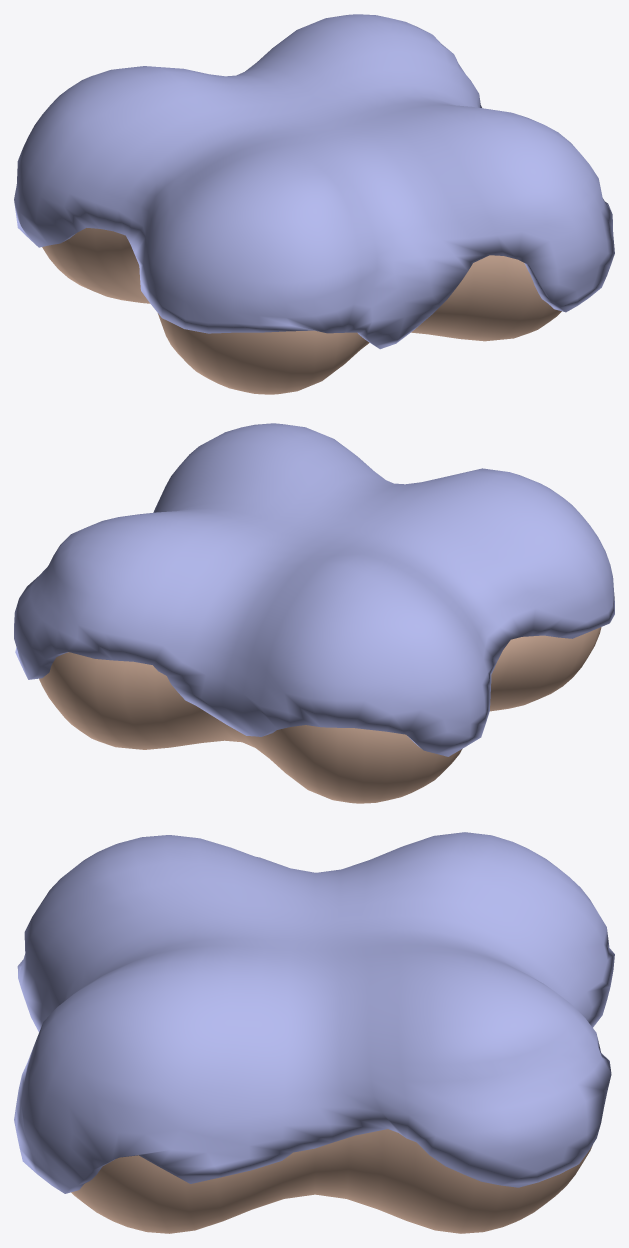
File: wrong blue clay.fbx
3 renders of one model, top to bottom at view 1: azimuth 30°, elevation 25°; view 2: azimuth 150°, elevation 25°; view 3: azimuth 270°, elevation 25°, orthographic. The views are drawn at different scales.
Visible parts, largest first — view 1: wrong blue clay; view 2: wrong blue clay; view 3: wrong blue clay.
Part boxes in pixels (bbox=[...]): wrong blue clay: bbox=[14, 14, 614, 394]; wrong blue clay: bbox=[14, 423, 614, 803]; wrong blue clay: bbox=[14, 832, 614, 1233].
Size of the model in its own units: 190 by 88.83 by 189.
